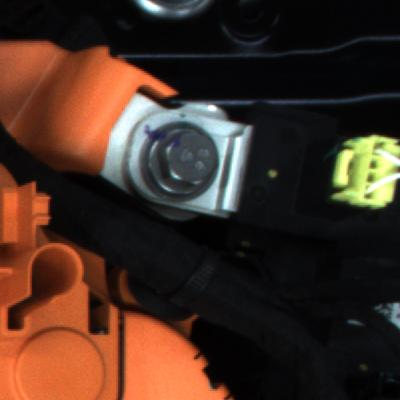nut_b: (141, 115, 227, 215)
